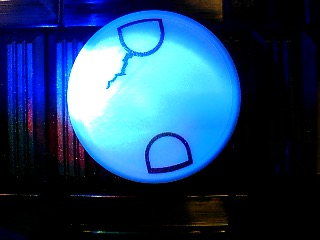CRACK: (67, 10, 241, 184)
